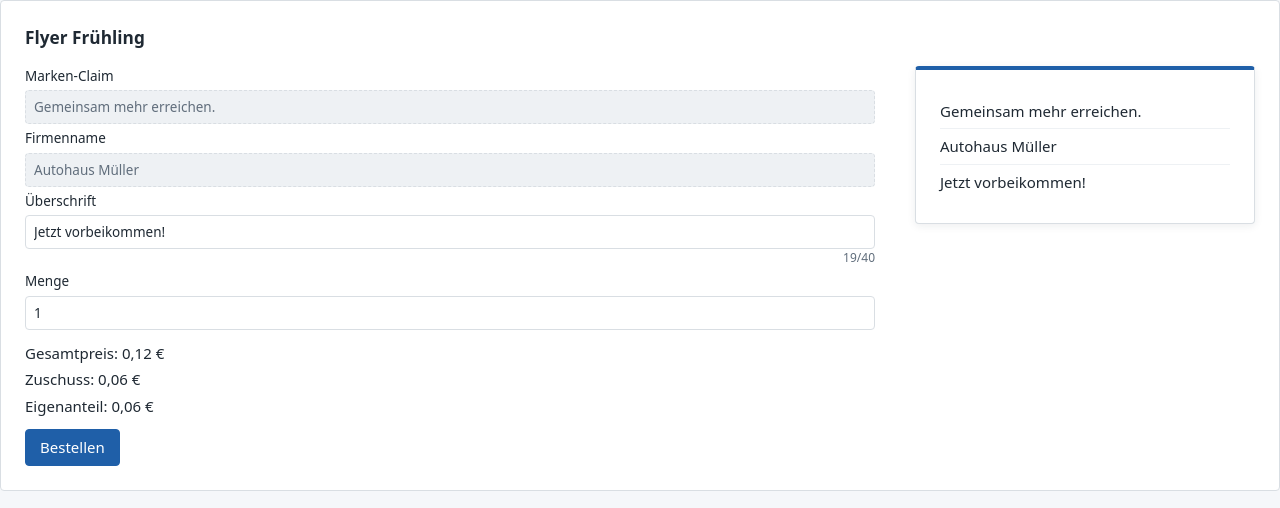
Test: TemplateEditorPage › ui5_quantityChangeShowsTotalSubsidyAndOwnShare
Expected: the text "Gesamtpreis: 0,12 €" is shown, [25, 343, 164, 363]
Replace the text in the number field labelled "Menge" with "500" at (450, 313), box [25, 296, 875, 330]
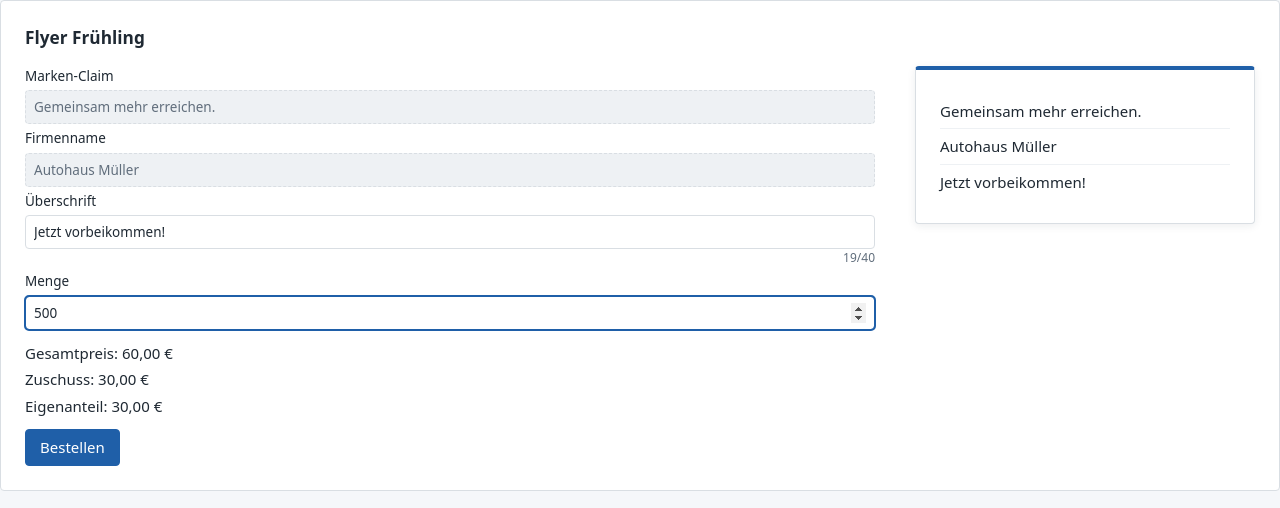
Expected: the text "Gesamtpreis: 60,00 €" is shown, [25, 343, 173, 363]
Expected: the text "Zuschuss: 30,00 €" is shown, [25, 369, 149, 389]
Expected: the text "Eigenanteil: 30,00 €" is shown, [25, 396, 162, 416]
